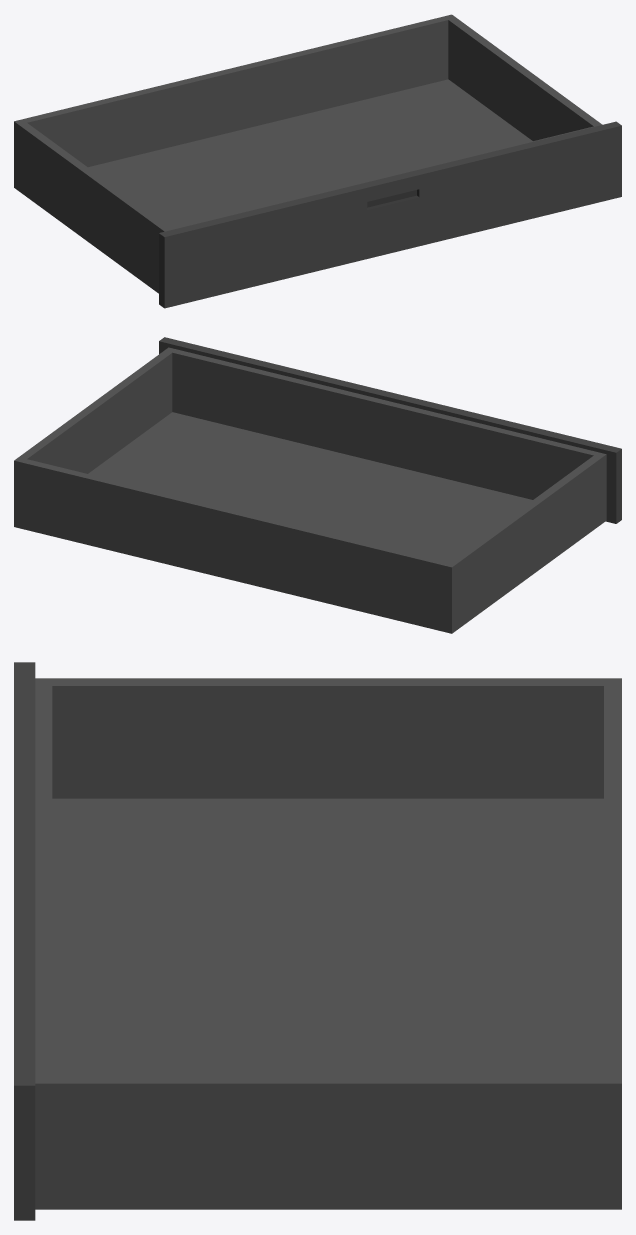
The model's file is PC_Table2_C2_02.fbx.
The picture shows the model from 3 angles, top to bottom: view 1: azimuth 30°, elevation 25°; view 2: azimuth 150°, elevation 25°; view 3: azimuth 270°, elevation 25°; orthographic projection. The views are drawn at different scales.
Parts seen in each view (by area): view 1: PC_Table2_C2_02; view 2: PC_Table2_C2_02; view 3: PC_Table2_C2_02.
Part boxes in pixels (left/top/right/bottom): PC_Table2_C2_02: left=14, top=14, right=621, bottom=308; PC_Table2_C2_02: left=14, top=337, right=621, bottom=633; PC_Table2_C2_02: left=14, top=662, right=621, bottom=1220.
Bounding box in the file's own units: 94 × 14 × 57.05.
